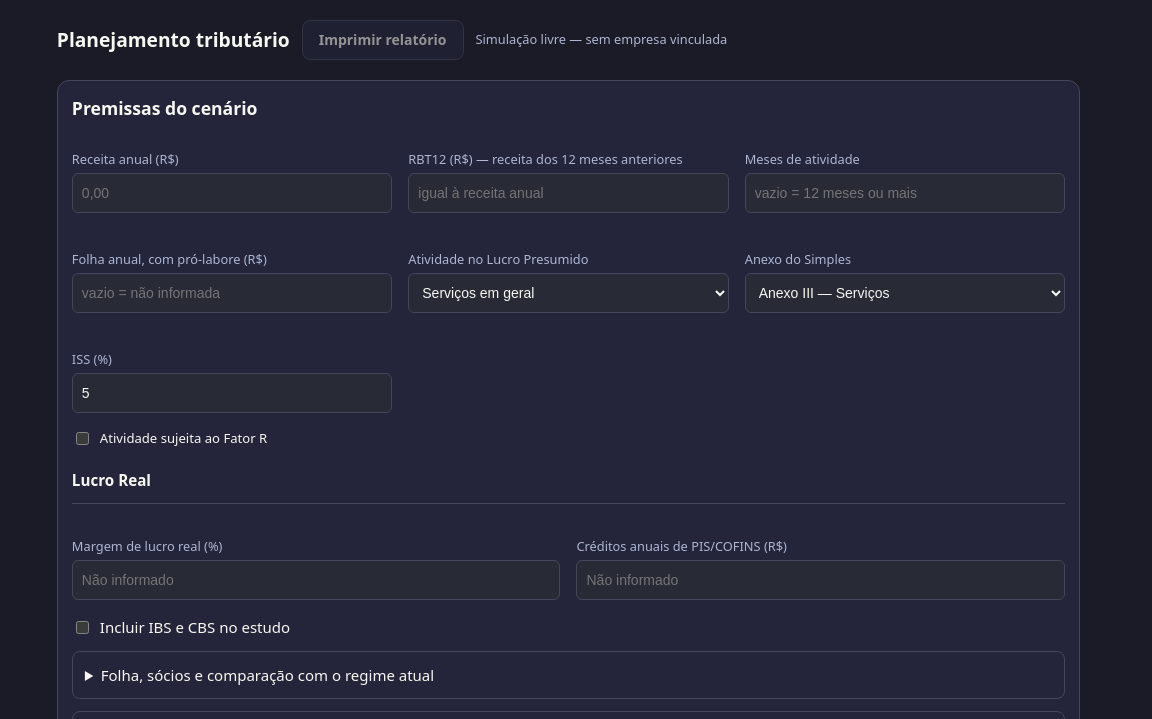
Test: distingue DAS, imposto de consumo e crédito do comprador, sem inventar CBS ausente
This screenshot has width=1152, height=719.
Step 1. Click the checkbox labelled "Incluir IBS e CBS no estudo" → (82, 627), box [76,621,89,634]
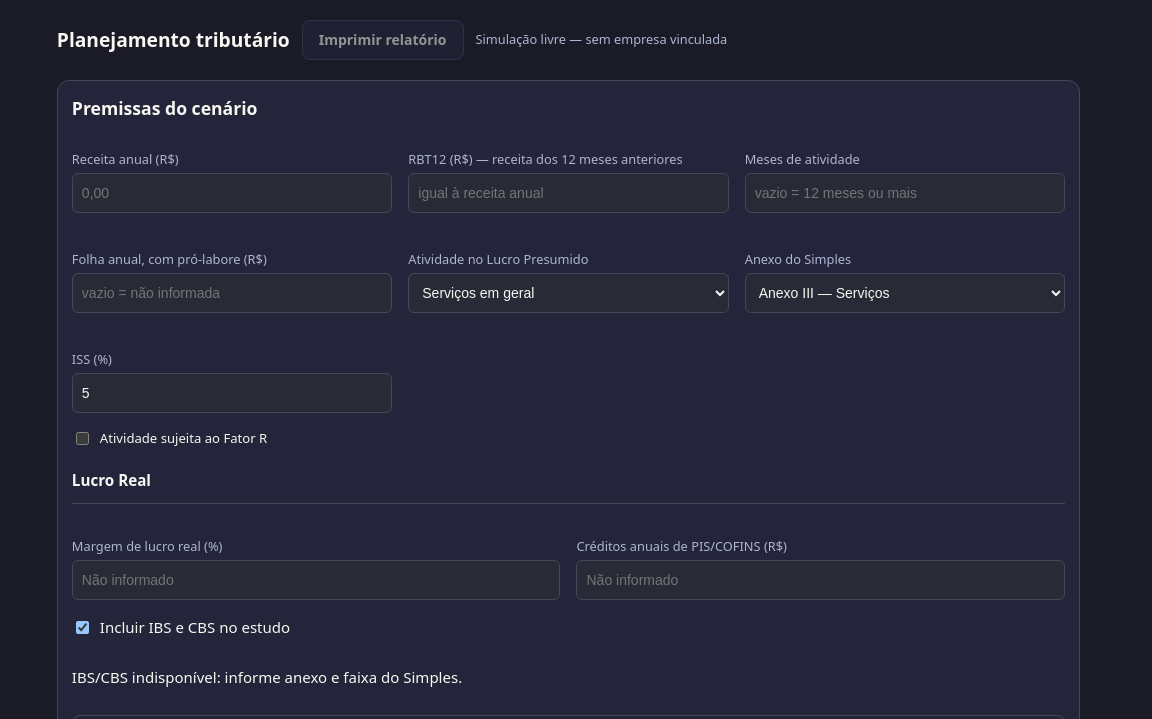
Step 2. Type "10000000" into the field labelled "Receita anual (R$)" → (232, 193), box [72,173,392,213]
(page scrolled)
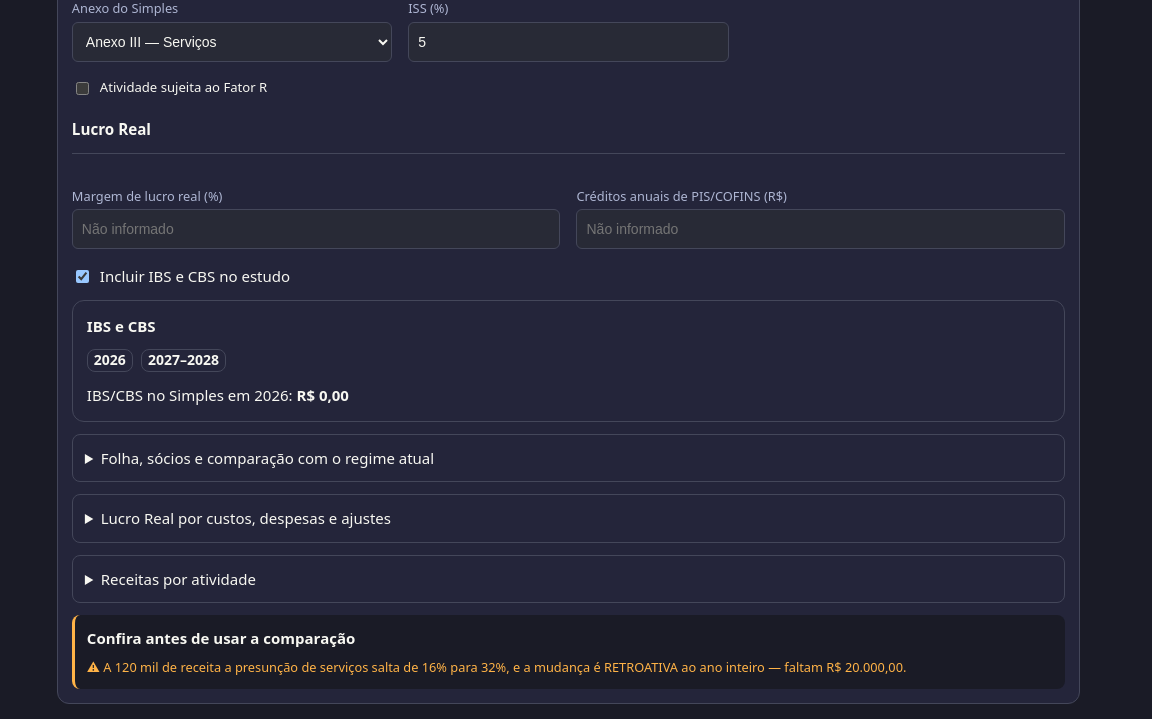
Step 3. Click the button "2027–2028" → (183, 361), box [141,350,226,372]
(page scrolled)
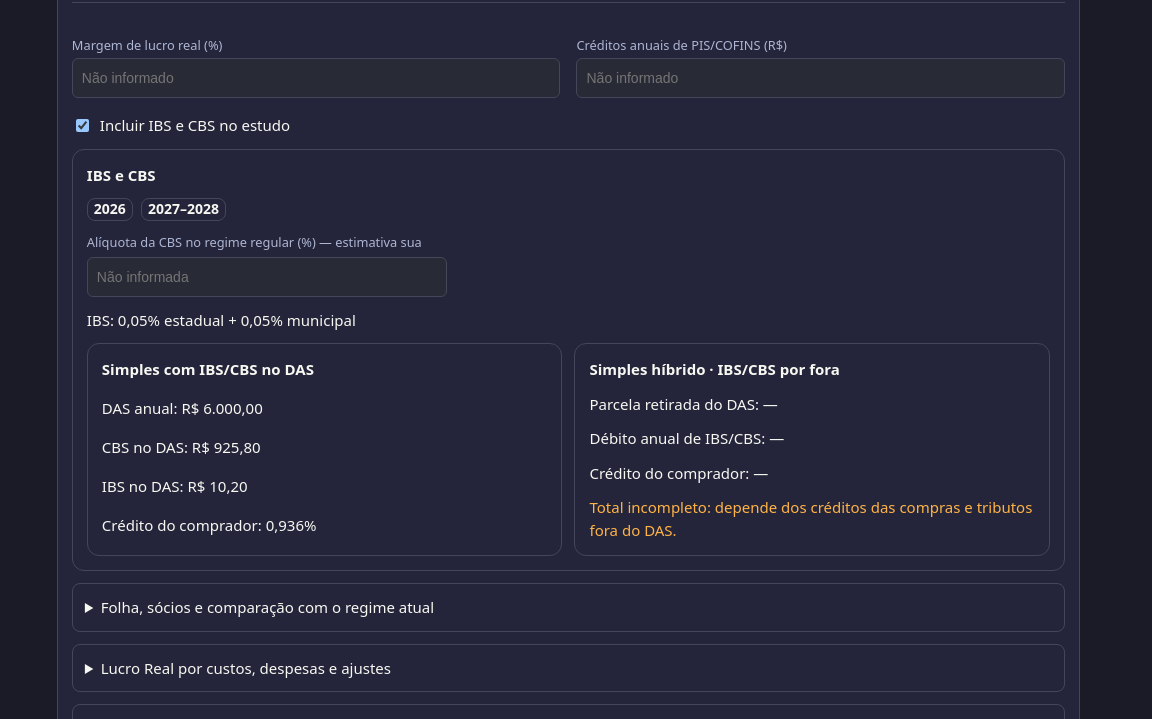
Check: the element named "IBS e CBS no Simples Nacional" shows "DAS anual: R$ 6.000,00", box [72,149,1065,571]
Check: the element named "IBS e CBS no Simples Nacional" shows "Débito anual de IBS/CBS: —", box [72,149,1065,571]
Check: the element named "IBS e CBS no Simples Nacional" shows "IBS: 0,05% estadual + 0,05% municipal", box [72,149,1065,571]
